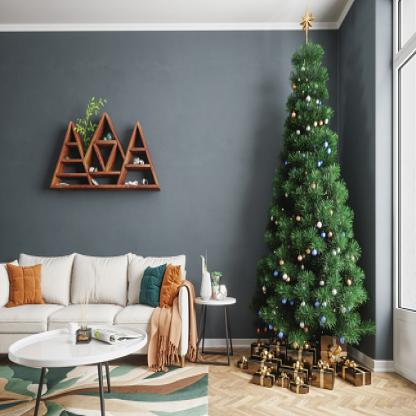present: (320, 340, 374, 389), (286, 344, 338, 384), (244, 352, 286, 380), (280, 363, 313, 398), (301, 362, 340, 390)
x_mas tree: (252, 6, 378, 346)
